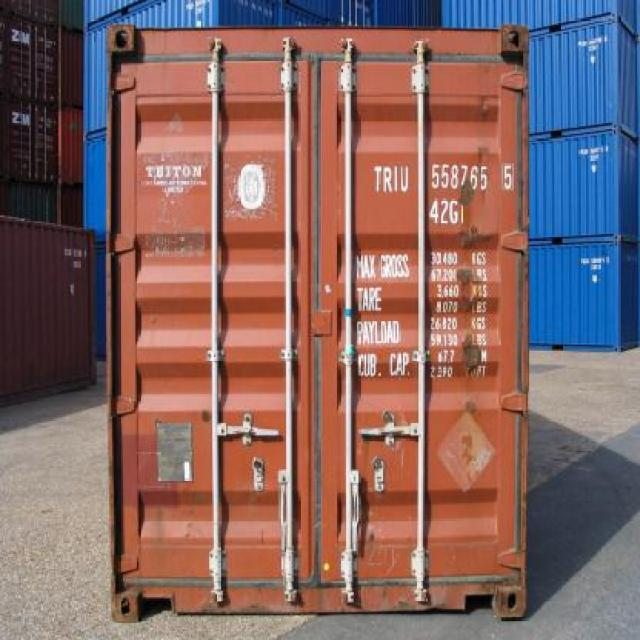ISO: (430, 198, 468, 225)
container_number: (374, 165, 514, 192)
